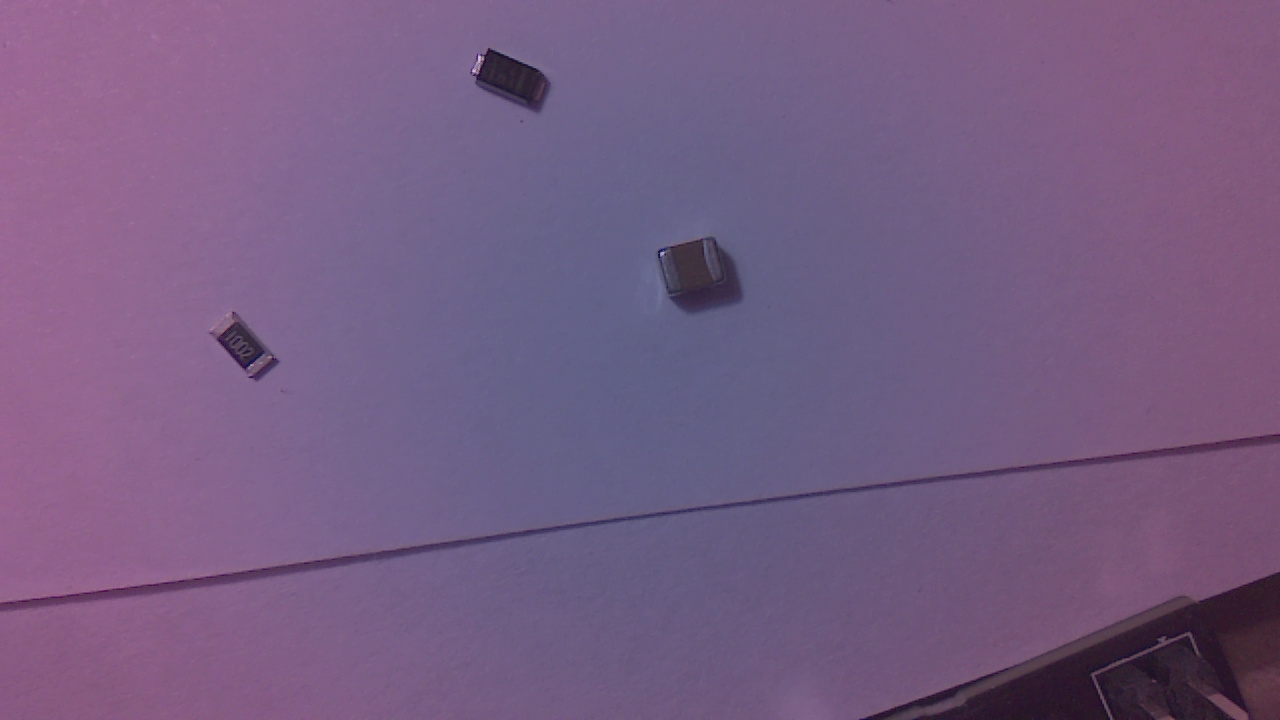Condensator: (661, 242, 732, 301)
Diode: (477, 49, 559, 116)
Resistor: (213, 313, 285, 389)
